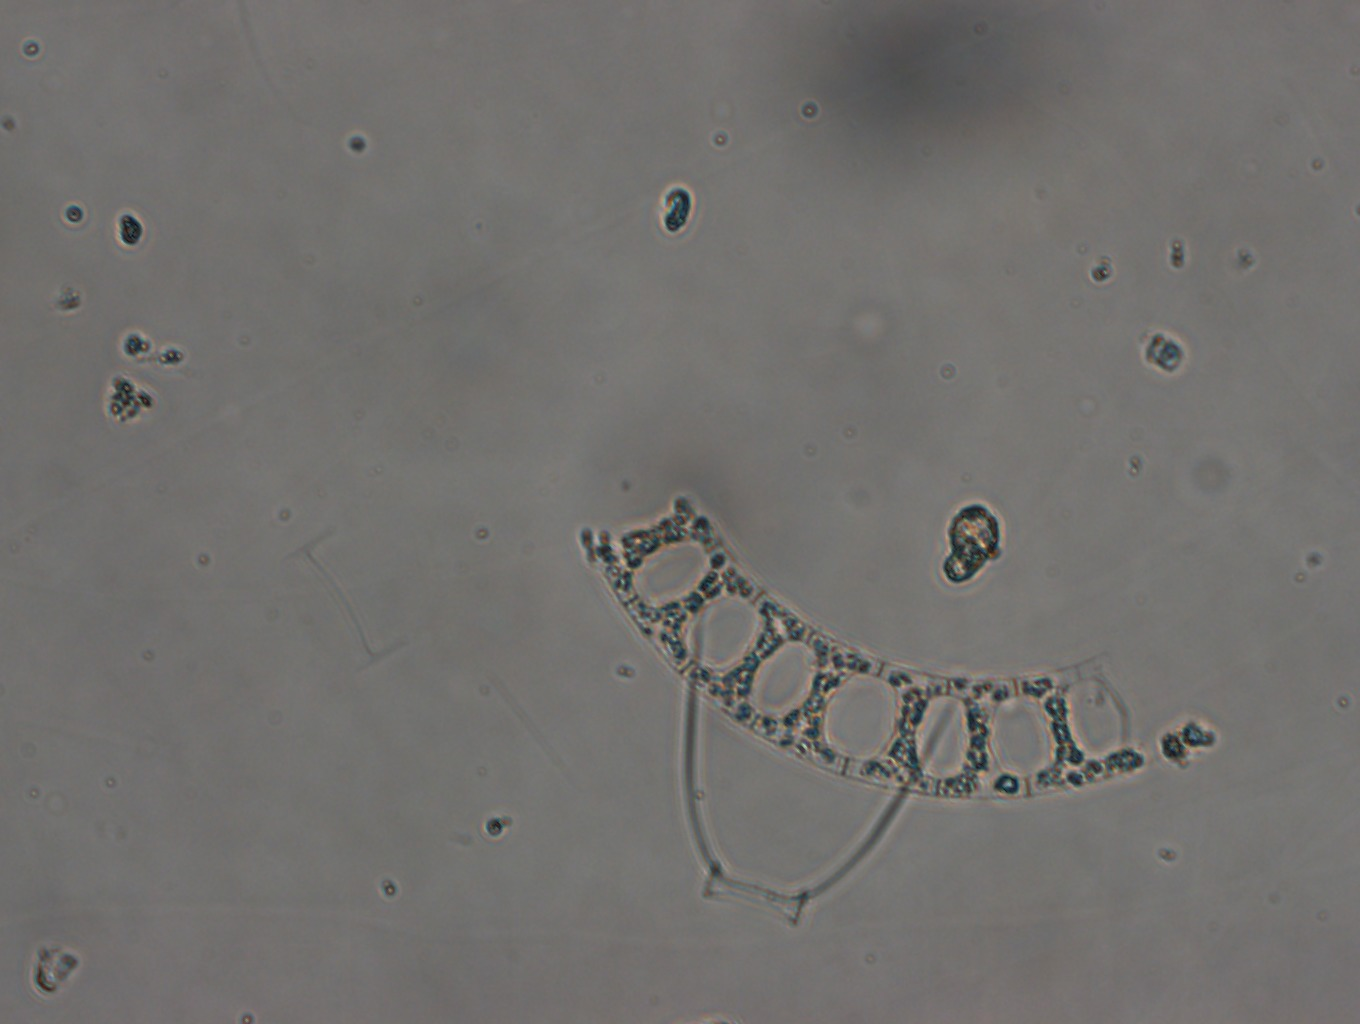chaetoceros: (677, 616, 956, 926)
eucampia: (579, 494, 1226, 801)
